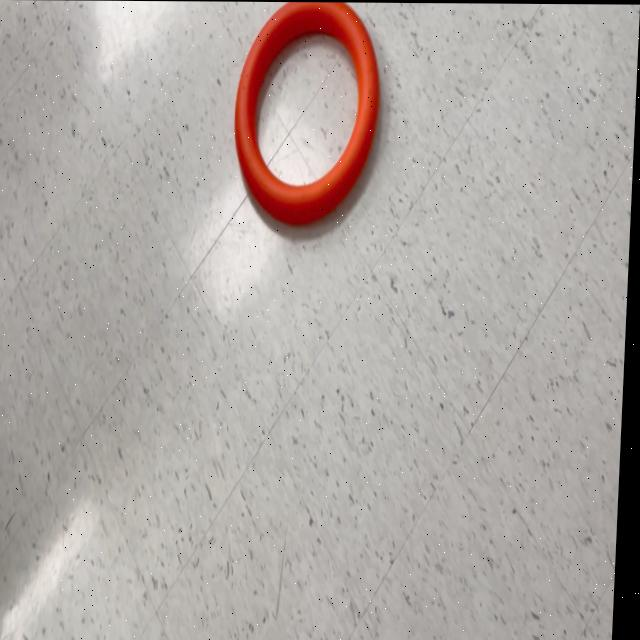note: (230, 2, 385, 229)
